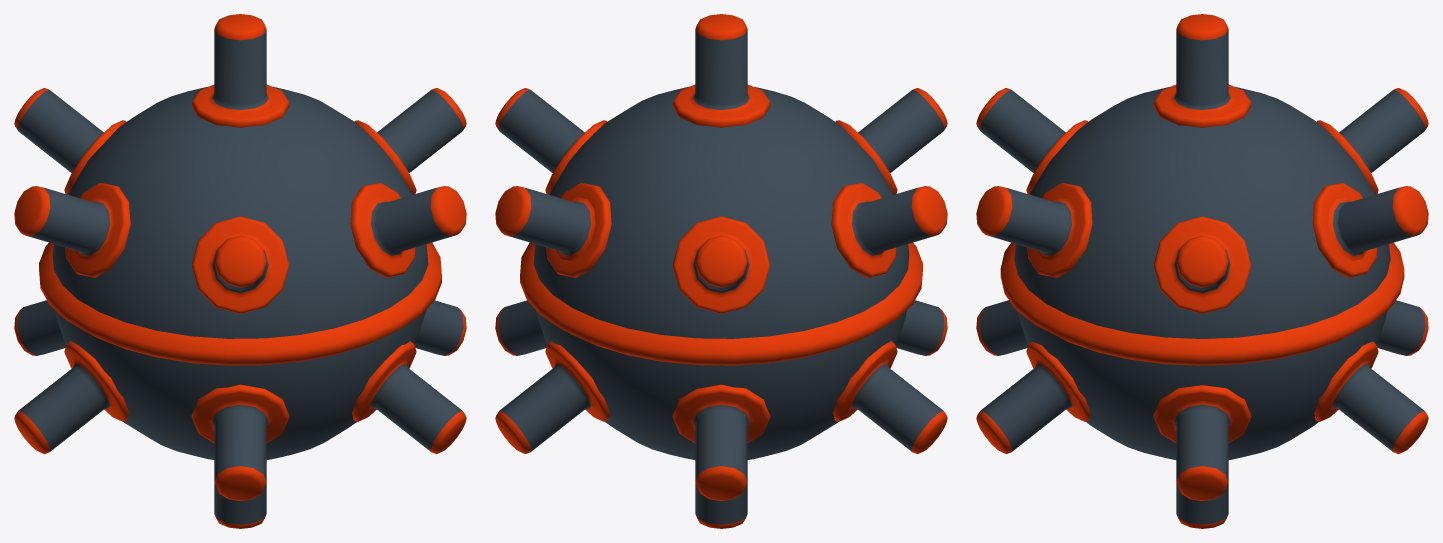
Rendered from mina.fbx.
The picture shows the model from 3 angles, left to right: view 1: azimuth 30°, elevation 25°; view 2: azimuth 150°, elevation 25°; view 3: azimuth 270°, elevation 25°; orthographic projection.
Visible parts, largest first — view 1: Sphere, Sphere.001, Cylinder.077, Cylinder.073, Cylinder.071, Cylinder.072, Cylinder.069, Cylinder.076, Cylinder.078, Cylinder.070, Cylinder.074, Cylinder.079 (+2 smaller); view 2: Sphere, Sphere.001, Cylinder.081, Cylinder.073, Cylinder.075, Cylinder.074, Cylinder.069, Cylinder.076, Cylinder.080, Cylinder.070, Cylinder.072, Cylinder.079 (+2 smaller); view 3: Sphere, Sphere.001, Cylinder.079, Cylinder.071, Cylinder.075, Cylinder.070, Cylinder.069, Cylinder.078, Cylinder.080, Cylinder.072, Cylinder.074, Cylinder.077 (+2 smaller).
Part boxes in pixels (x1,y1,x2,y2): Sphere: (52,86,428,459); Sphere.001: (39,242,441,365); Cylinder.077: (191,384,289,500); Cylinder.073: (14,183,130,277); Cylinder.071: (350,183,466,277); Cylinder.072: (191,216,289,313); Cylinder.069: (191,14,289,127); Cylinder.076: (14,341,129,454); Cylinder.078: (352,341,466,454); Cylinder.070: (354,88,466,194); Cylinder.074: (14,88,126,194); Cylinder.079: (414,300,466,355); Sphere: (533,86,909,459); Sphere.001: (520,242,922,365); Cylinder.081: (672,384,770,500); Cylinder.073: (831,183,947,277); Cylinder.075: (495,183,611,277); Cylinder.074: (672,216,770,313); Cylinder.069: (672,14,770,127); Cylinder.076: (832,341,947,454); Cylinder.080: (495,341,609,454); Cylinder.070: (495,88,607,194); Cylinder.072: (835,88,947,194); Cylinder.079: (495,300,547,355); Sphere: (1014,87,1390,459); Sphere.001: (1000,242,1404,365); Cylinder.079: (1153,385,1251,500); Cylinder.071: (976,183,1092,277); Cylinder.075: (1312,183,1428,277); Cylinder.070: (1153,216,1251,313); Cylinder.069: (1153,14,1251,127); Cylinder.078: (976,341,1090,454); Cylinder.080: (1314,341,1428,454); Cylinder.072: (976,88,1088,194); Cylinder.074: (1316,88,1428,194); Cylinder.077: (976,300,1027,355).
Size of the model in its own units: 268 by 290 by 239.
